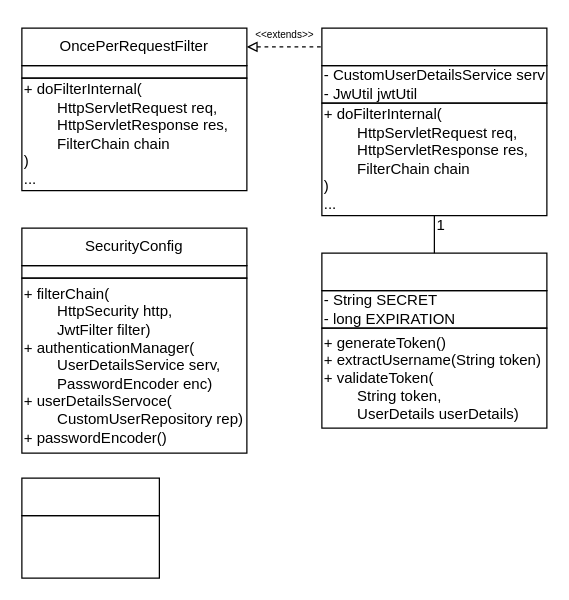
This 569x600 diagram has some shape labels left out. The centre of each missing label's shape, as x and y in pixels:
<<enumeration>> Role: pixel 90 496
JwtFilter: pixel 434 46
JwtUtil: pixel 434 271
MANAGER, EMPLOYEE, ACCOUNTANT: pixel 90 546
